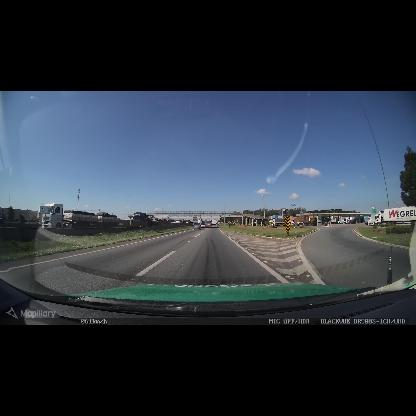O-MP: (285, 216, 290, 232)
R-19: (316, 219, 319, 221)
R-6c: (228, 221, 231, 224)
